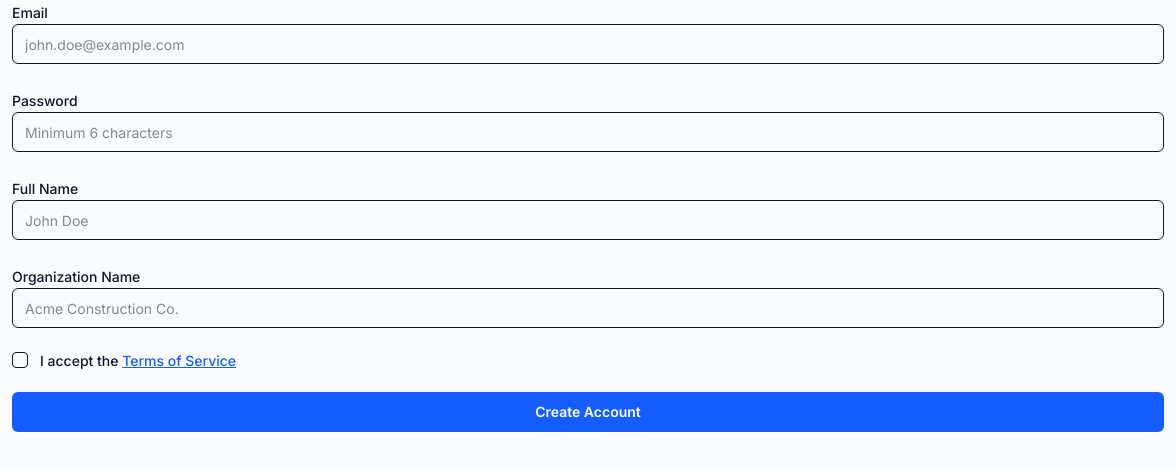
RegistrationForm › requires terms acceptance
The width and height of the screenshot is (1176, 469).
# Fill all fields except terms
Type "test@example.com" into the field labelled "Email" at (588, 44), box [12,24,1164,64]
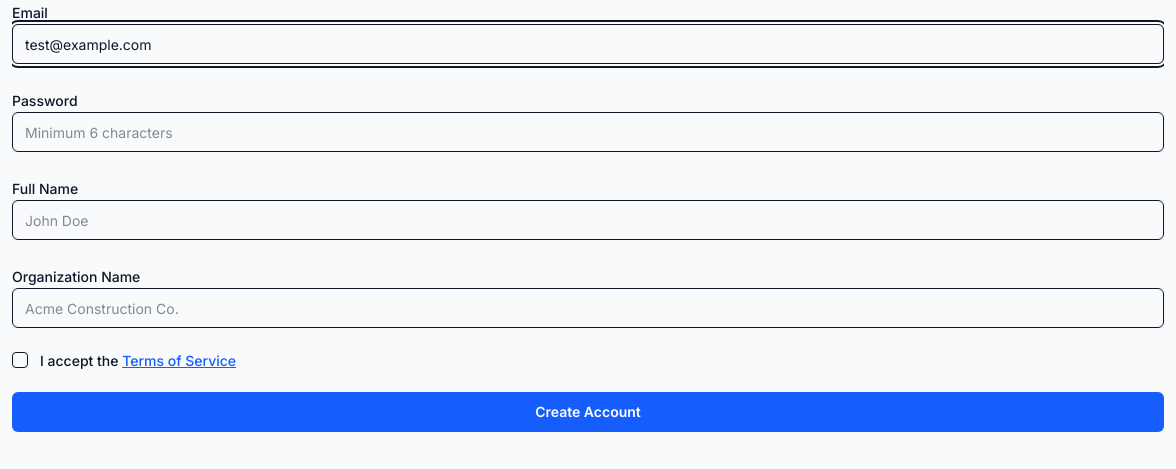
Type "password123" into the password field labelled "Password" at (588, 132), box [12,112,1164,152]
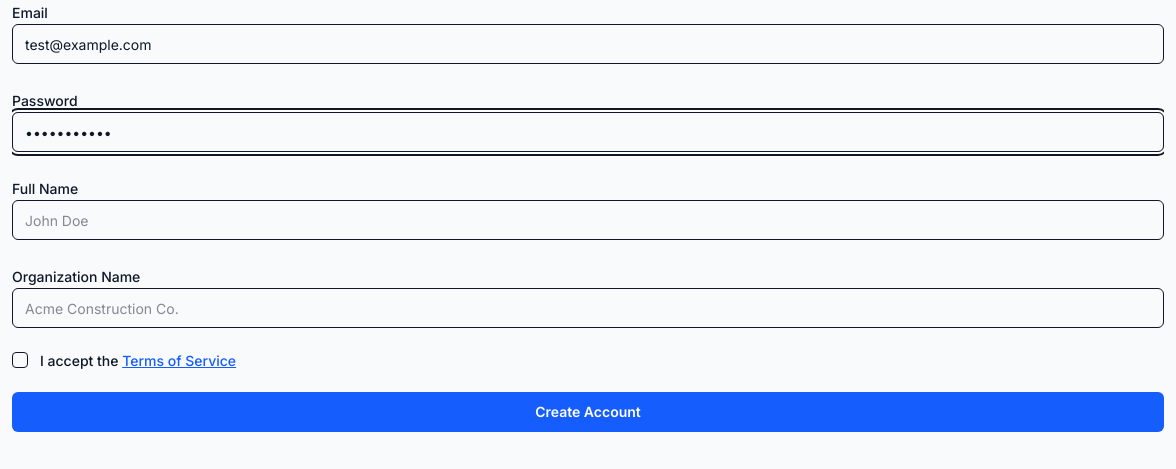
Type "Test User" into the field labelled "Full Name" at (588, 220), box [12,200,1164,240]
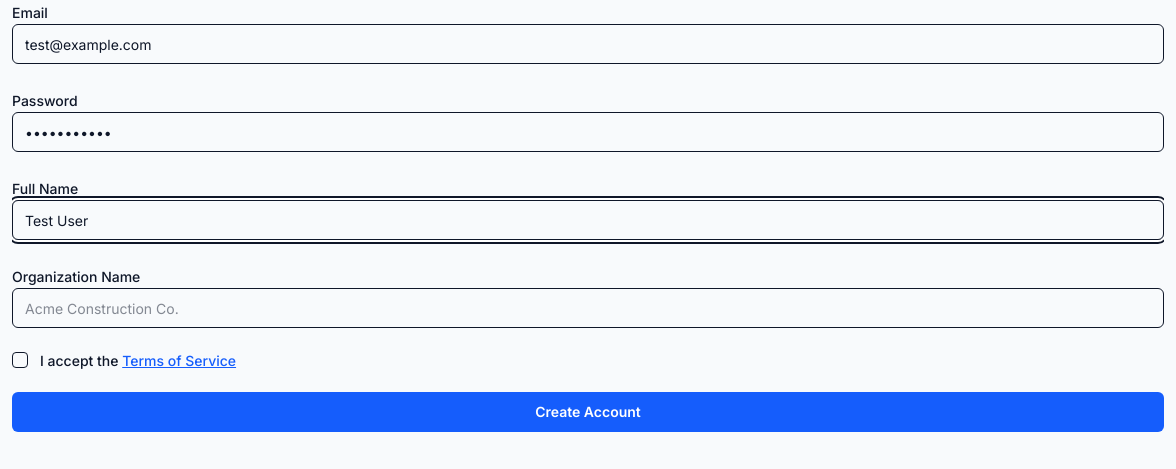
Type "Test Org" into the field labelled "Organization Name" at (588, 308), box [12,288,1164,328]
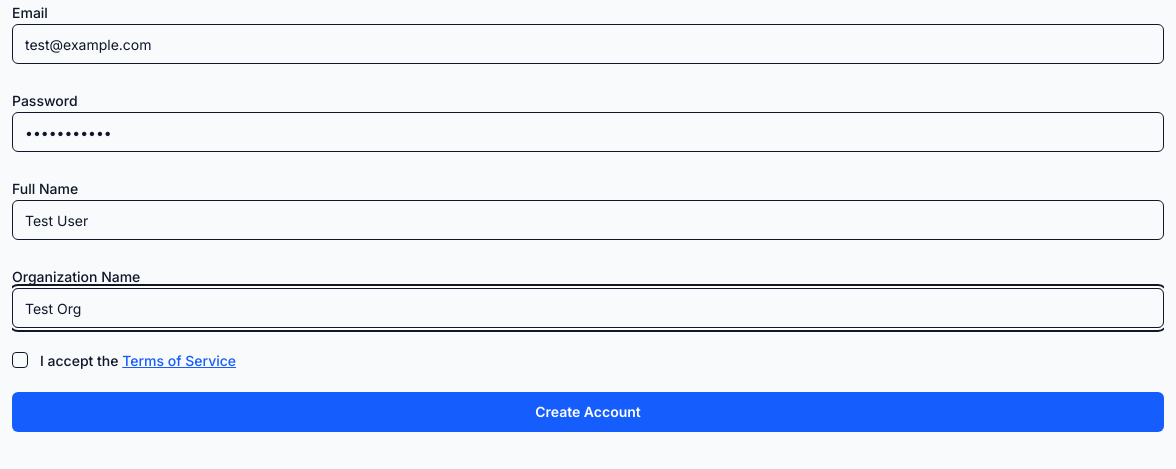
Click the button "Create Account" at (588, 412), box [12,392,1164,432]
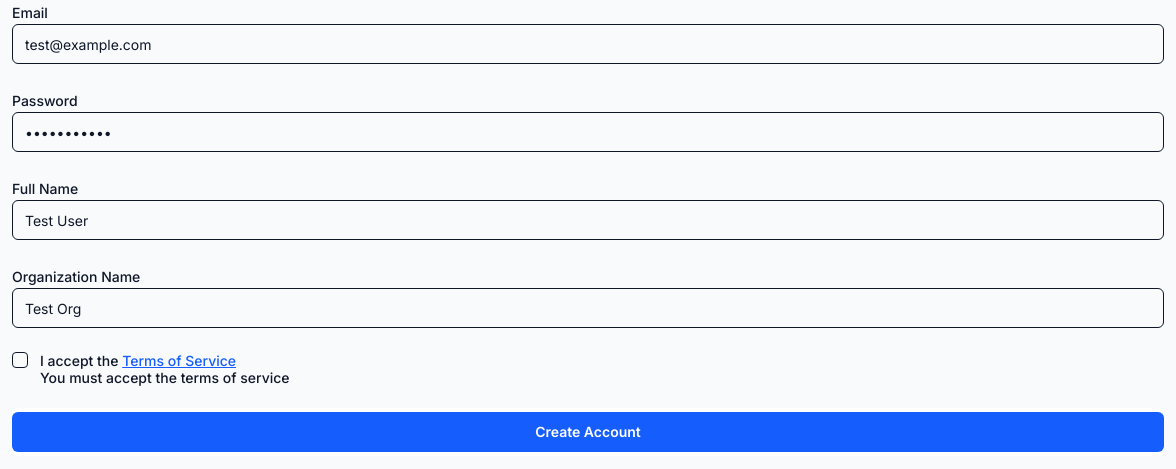
Now the text "You must accept the terms of service" is shown, box [40,368,290,388]
